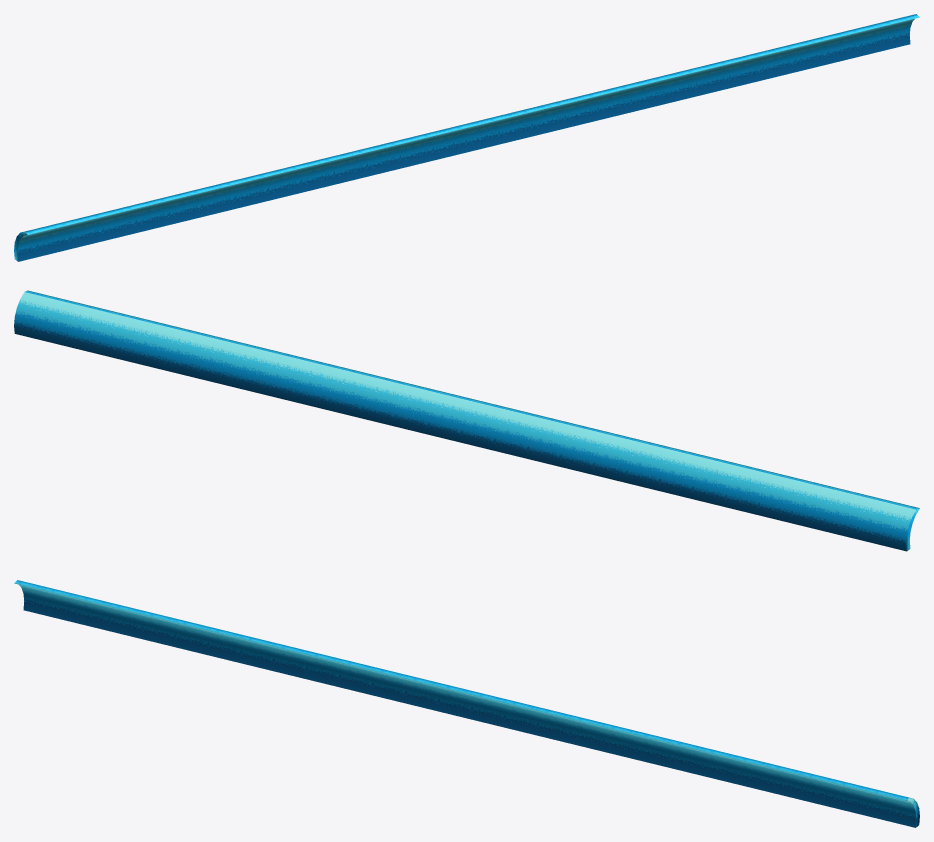
The model's file is Super Slow.fbx.
3 views of the same model, one above another, from view 1: azimuth 30°, elevation 25°; view 2: azimuth 150°, elevation 25°; view 3: azimuth 330°, elevation 25° (orthographic).
Visible parts, largest first — view 1: Super_Slow; view 2: Super_Slow; view 3: Super_Slow.
Boxes of the visible parts, x1,y1,x2,y2 form: Super_Slow: (14,14,919,261); Super_Slow: (14,290,919,551); Super_Slow: (14,580,919,827).
Size of the model in its own units: 747 by 27.78 by 20.04.
